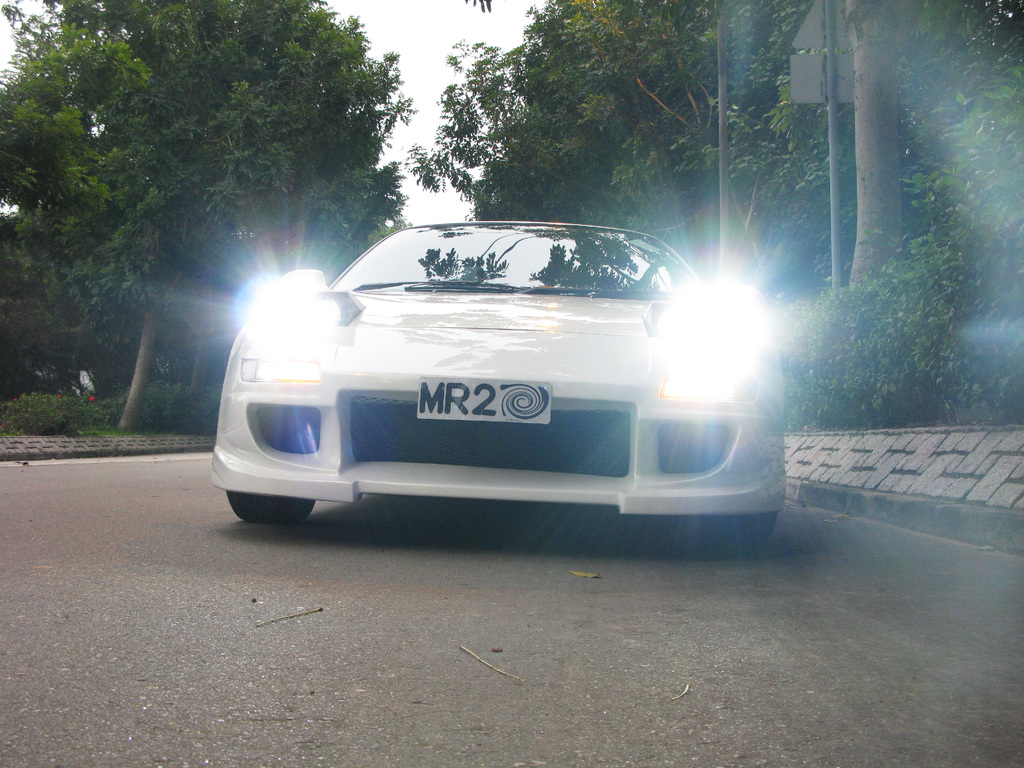Car: (209, 220, 788, 547)
